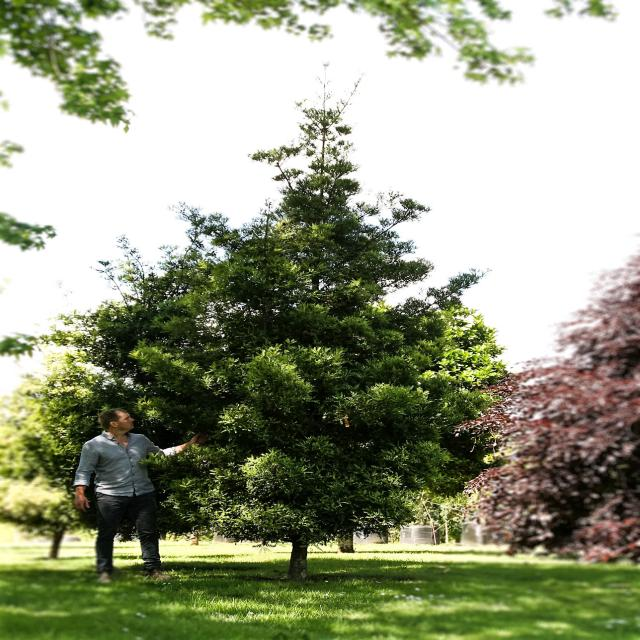Phyllocladus trichomanoides: (59, 99, 503, 575)
